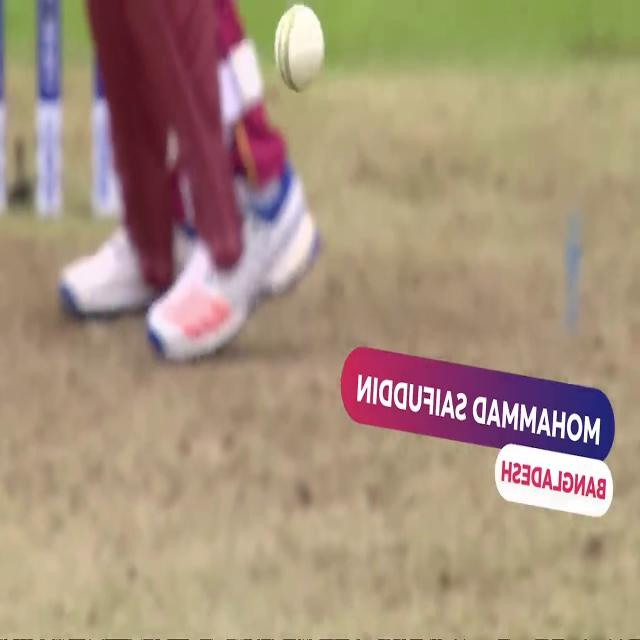ball: (274, 1, 326, 100)
